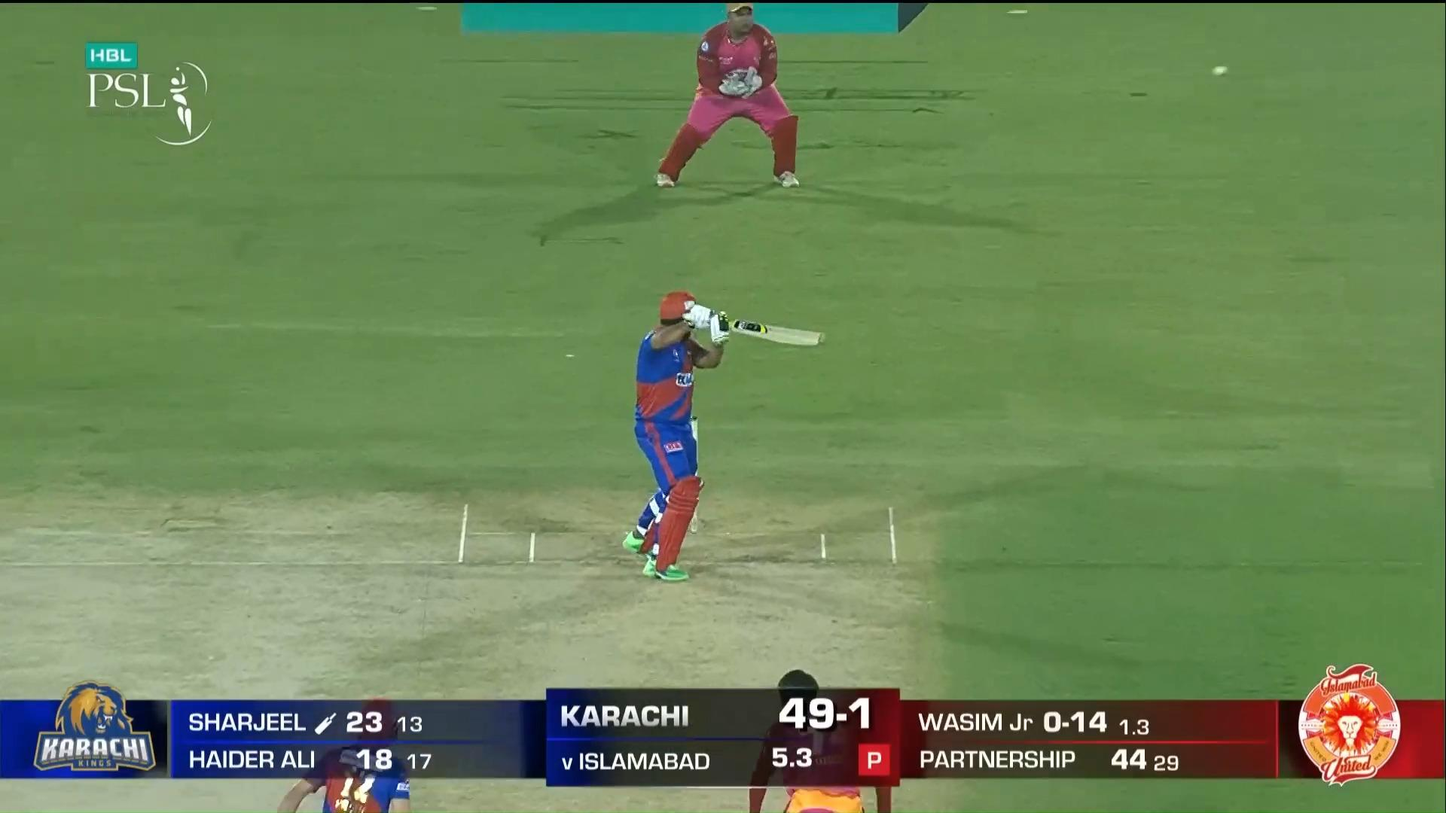batsman: (622, 290, 826, 582)
